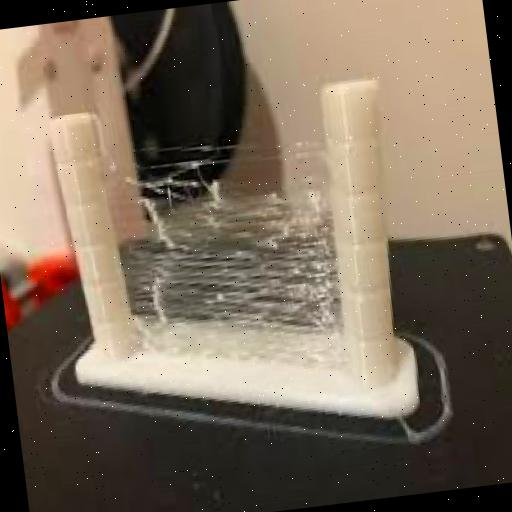stringing: (101, 140, 342, 362)
